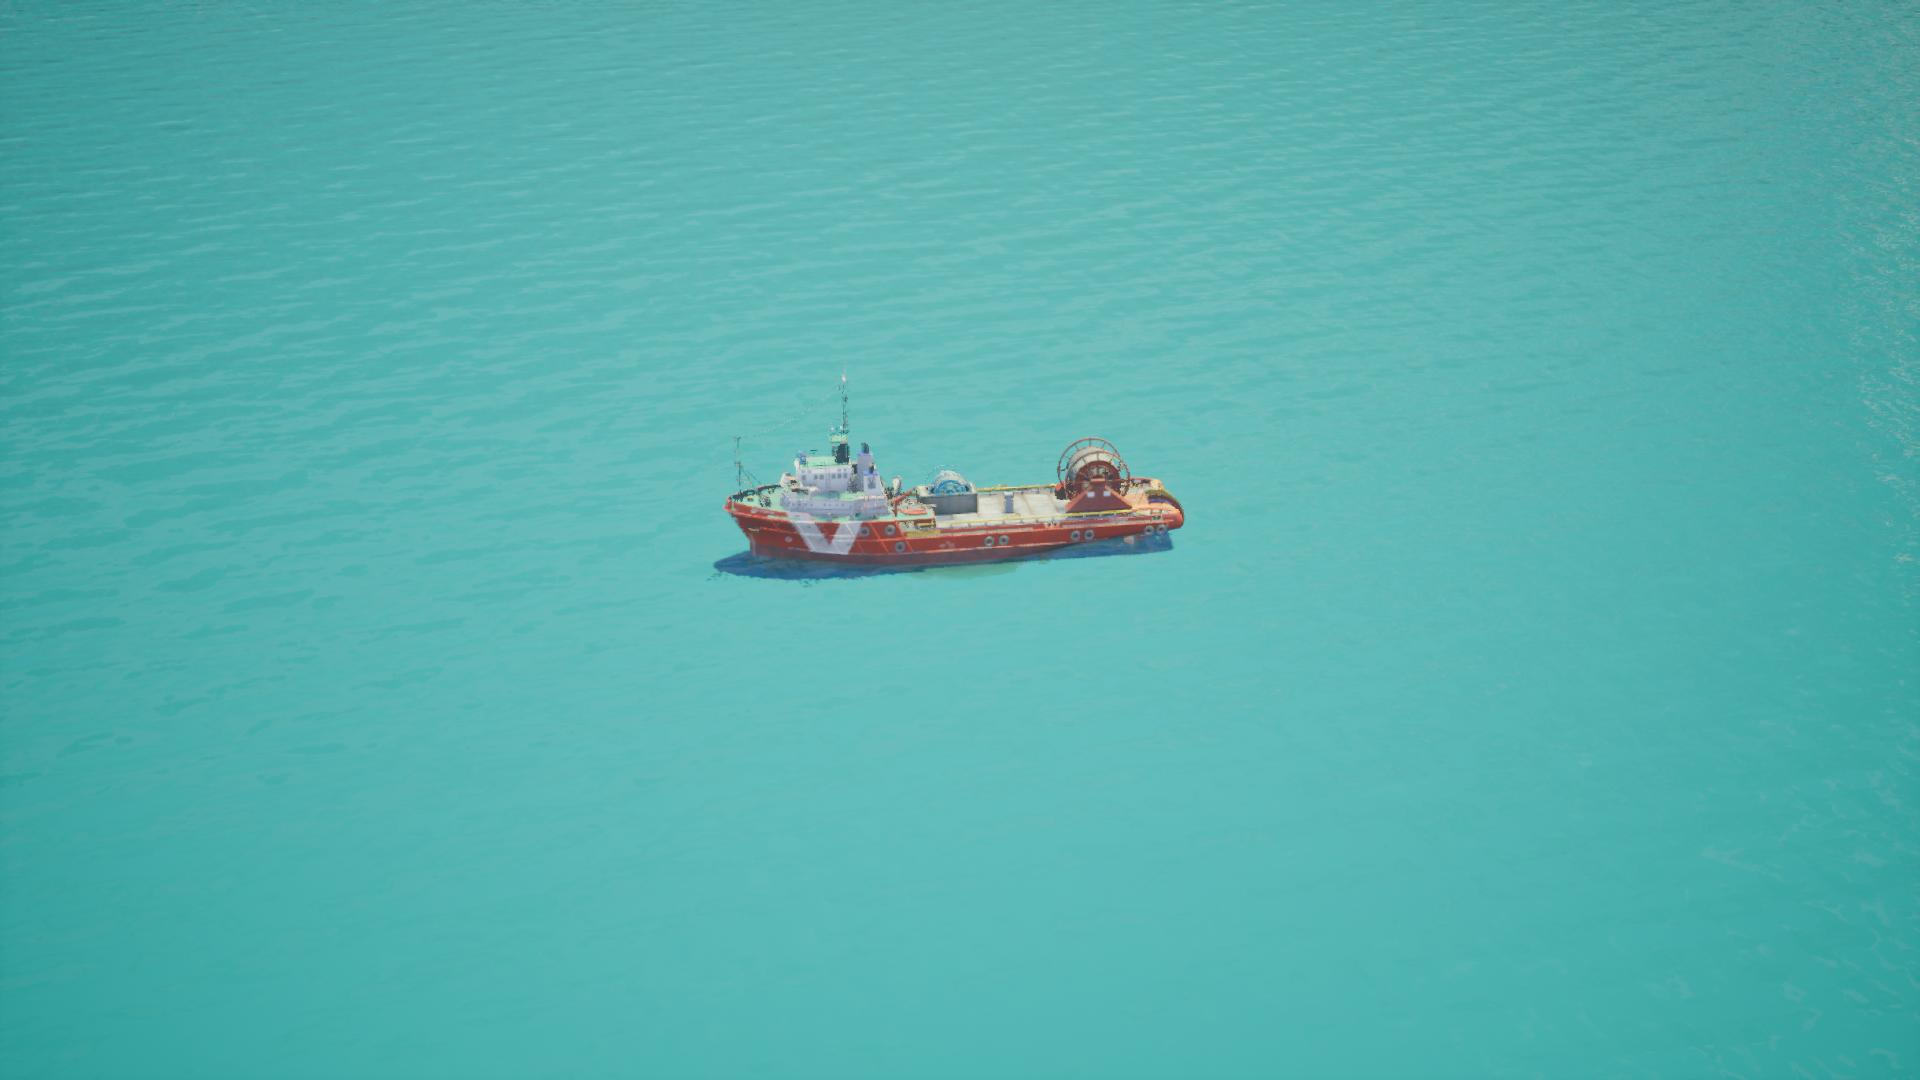Tug Boat: (711, 373, 1185, 580)
